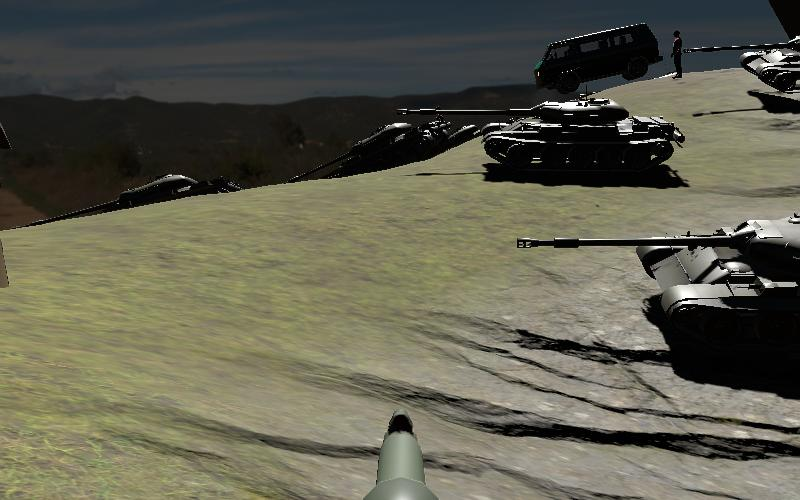Human: (669, 28, 685, 80)
Tank: (513, 208, 800, 358), (396, 92, 685, 183), (688, 26, 800, 95), (114, 171, 242, 213)
car: (533, 22, 665, 94)
